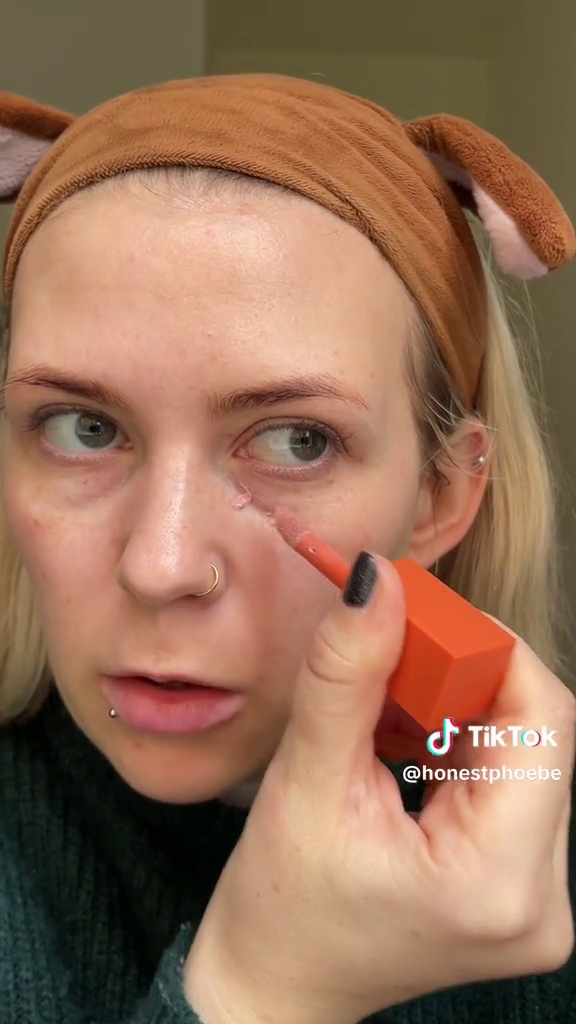train' :'yolo_data/train/images',: (265, 500, 526, 746)
